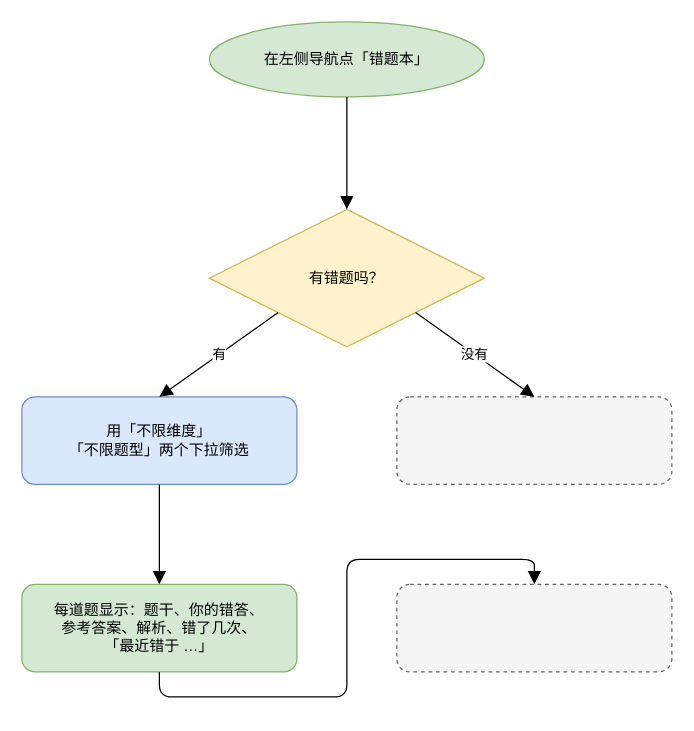
Some shapes in this 694 by 731 pixel diagram are drawn without their labels. The shapes that lost their labels are listed below. From the top down, each one's centre as x and y in pixels, then its label:
[534,440]: 看到「还没有错题」 与「去刷题」按钮
[534,627]: 错题很多时看到「已达单次上限， 只列出了最近 200 道。」
